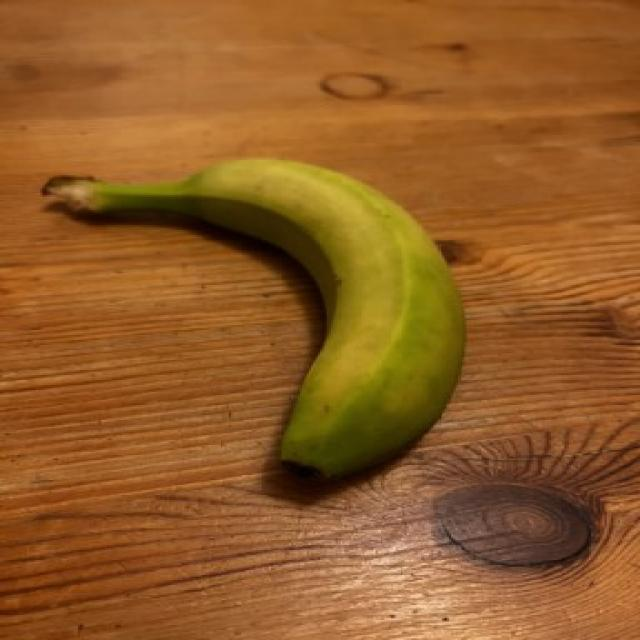Unripe: (19, 122, 492, 510)
